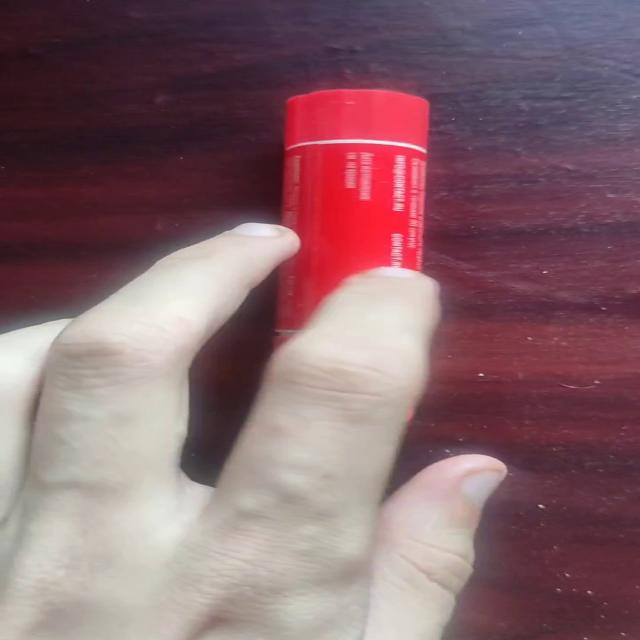glue: (270, 87, 430, 339)
